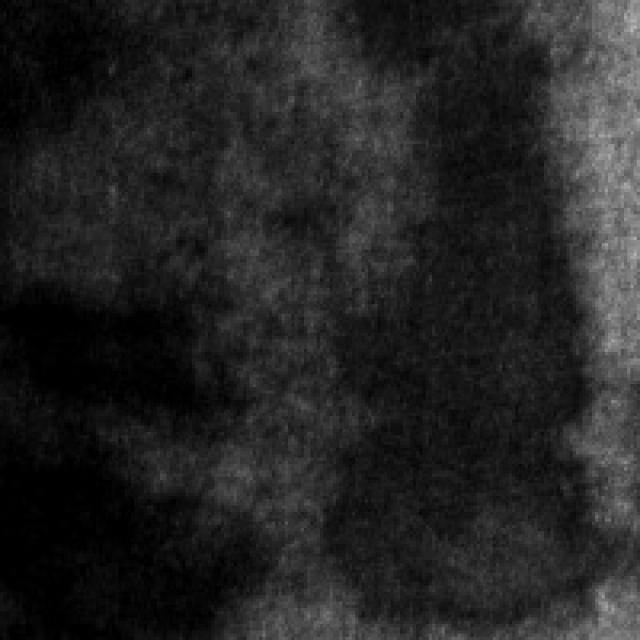patches: (310, 3, 614, 624), (0, 422, 262, 623), (0, 230, 240, 426), (0, 0, 131, 150)
